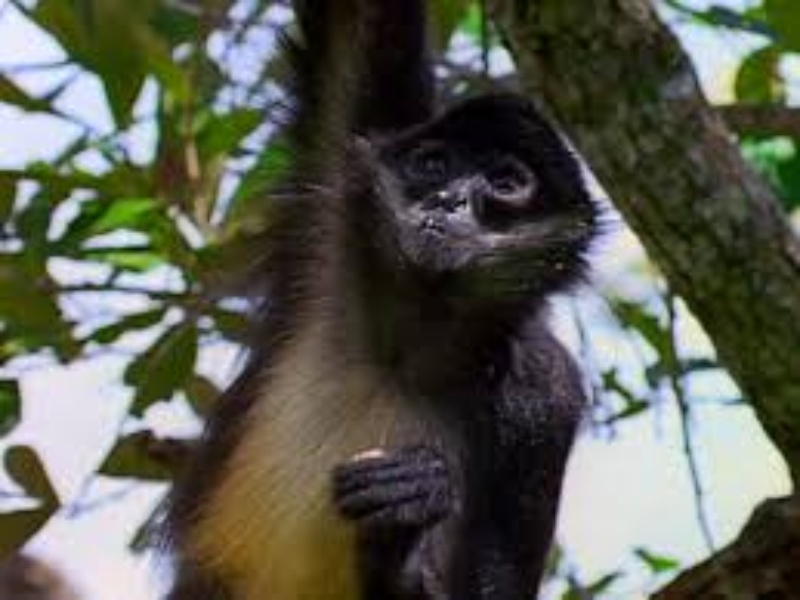monkey: (147, 87, 628, 588)
